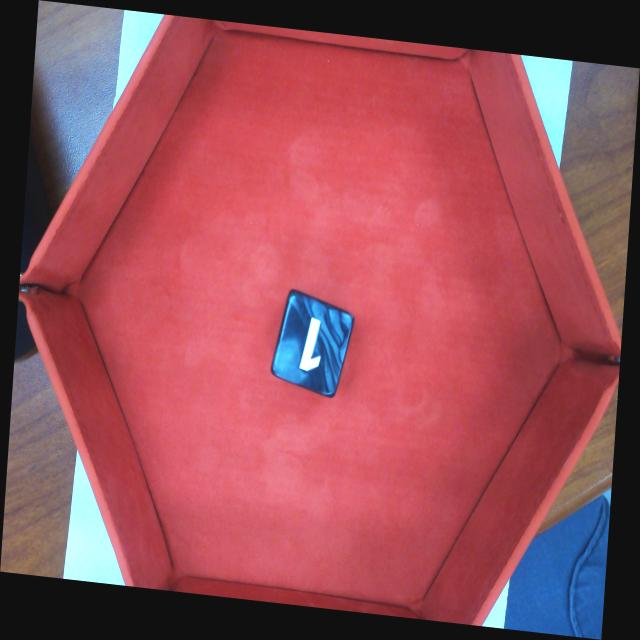dice: (268, 287, 356, 401)
